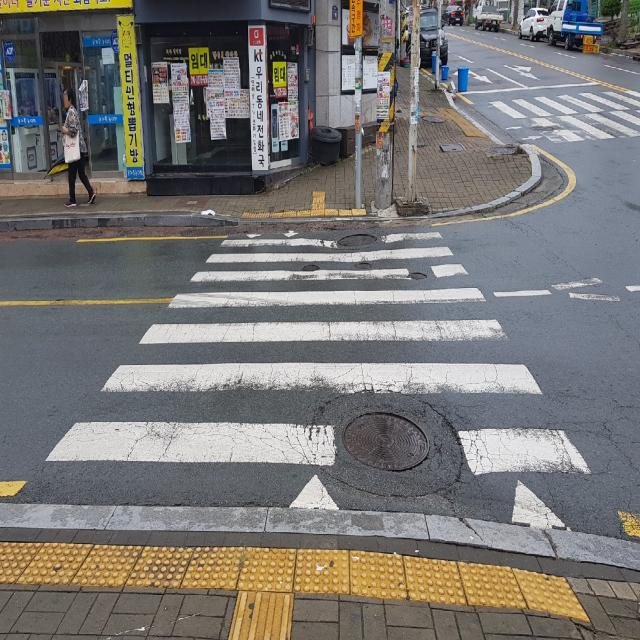횡단보도: (41, 219, 597, 540), (488, 102, 640, 140)
